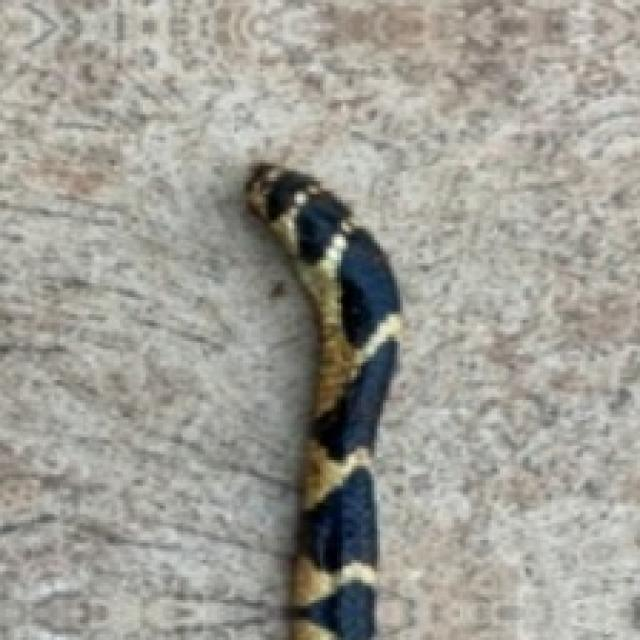king cobra: (246, 163, 400, 637)
